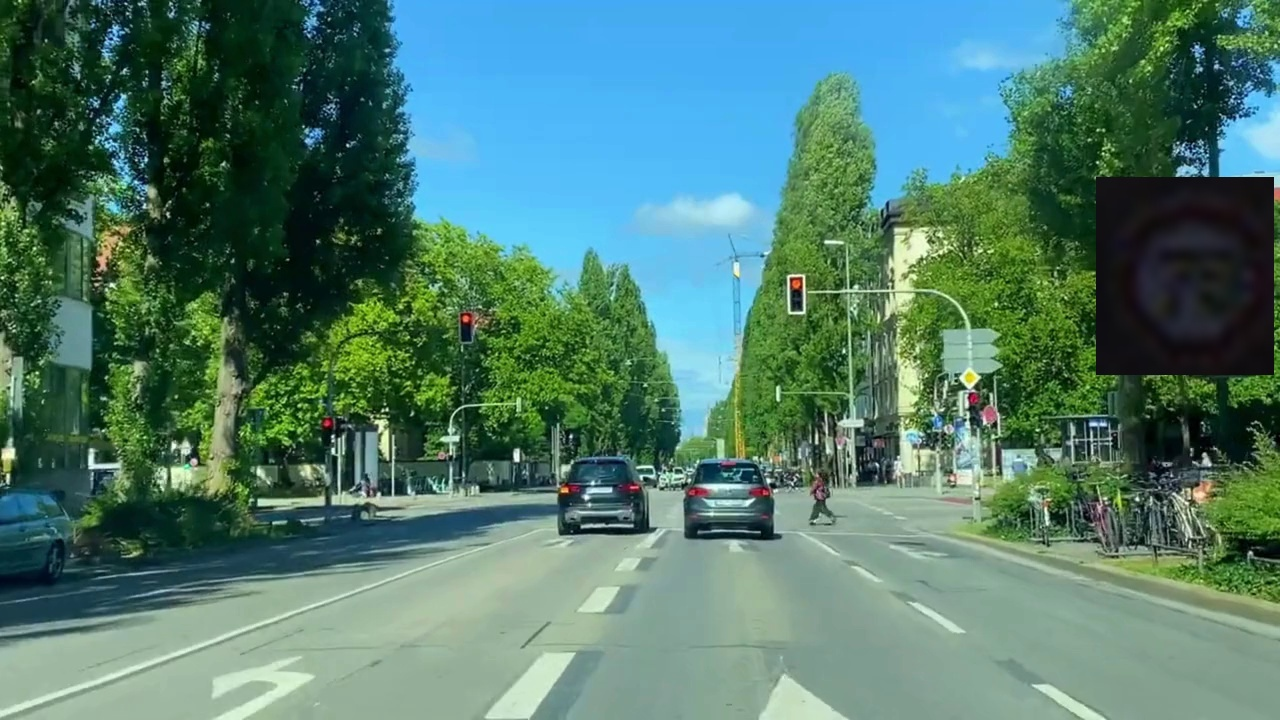Speed 70: (1096, 177, 1274, 375)
